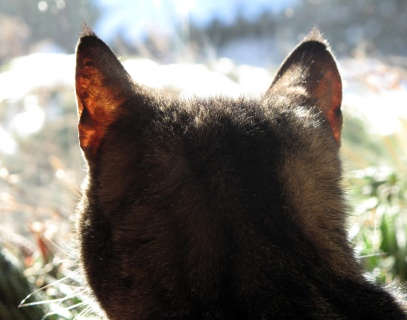Cat: (19, 20, 406, 319)
